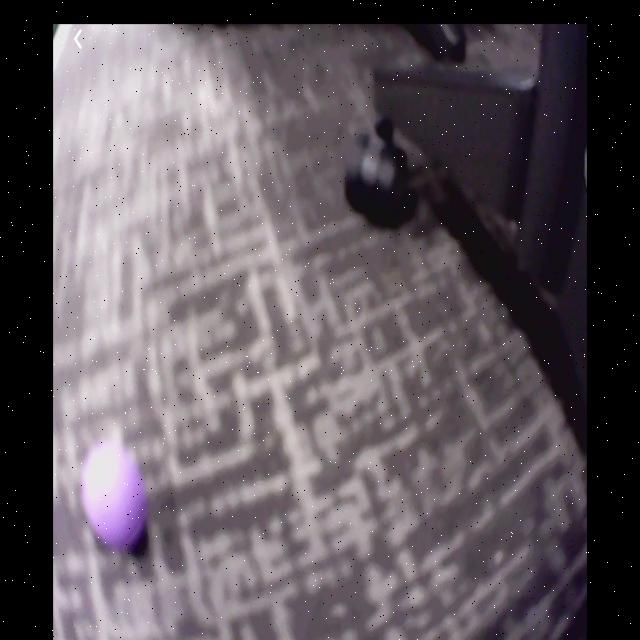ball: (86, 440, 145, 553)
